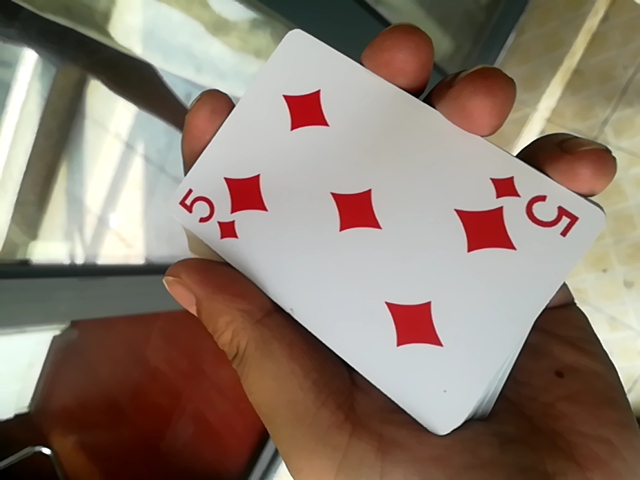fk 5: (144, 34, 603, 455)
